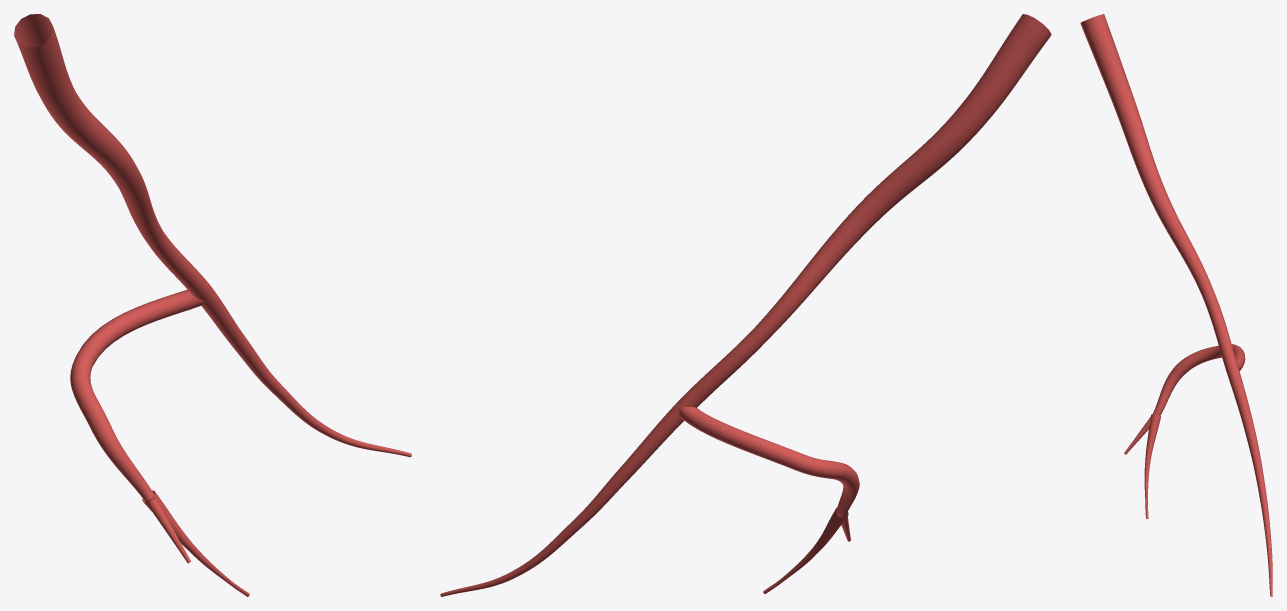
3 renders of one model, left to right at view 1: azimuth 30°, elevation 25°; view 2: azimuth 150°, elevation 25°; view 3: azimuth 270°, elevation 25°, orthographic. The views are drawn at different scales.
Parts seen in each view (by area): view 1: 右侧颏下动脉; view 2: 右侧颏下动脉; view 3: 右侧颏下动脉.
Part boxes in pixels (x1,y1,x2,y2): 右侧颏下动脉: [14, 14, 411, 596]; 右侧颏下动脉: [440, 14, 1051, 596]; 右侧颏下动脉: [1080, 14, 1272, 596].
Size of the model in its own units: 0.045 by 0.0541 by 0.0221.
